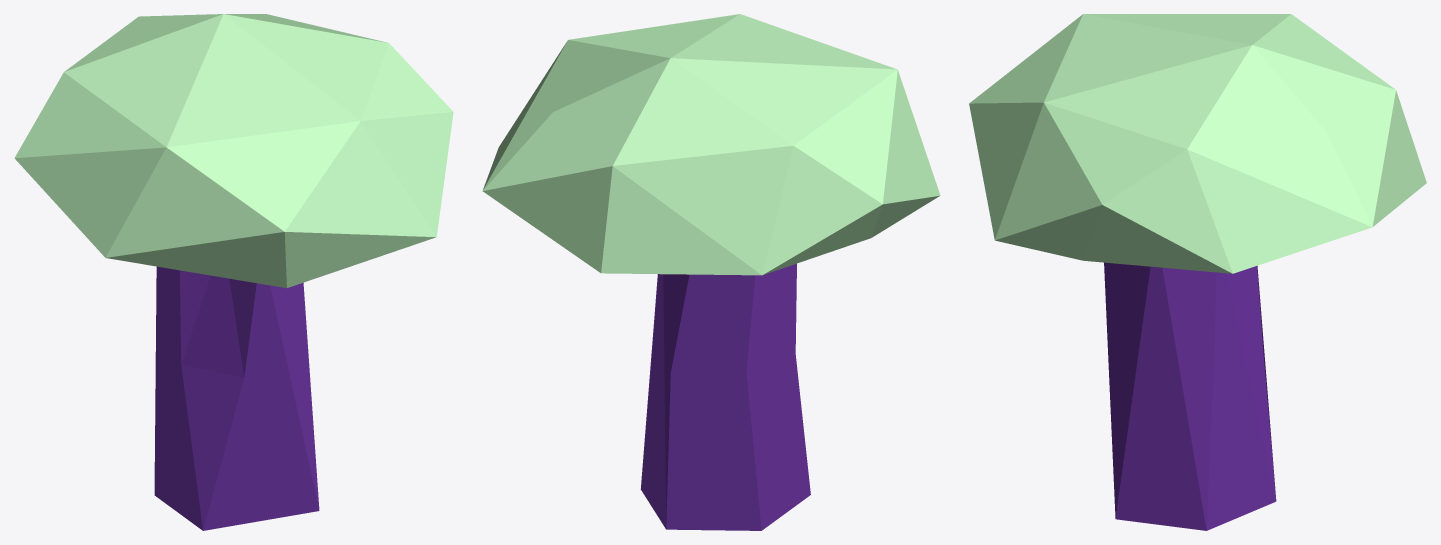
The model's file is mushroom01.fbx.
The picture shows the model from 3 angles, left to right: view 1: azimuth 30°, elevation 25°; view 2: azimuth 150°, elevation 25°; view 3: azimuth 270°, elevation 25°; orthographic projection.
Visible parts, largest first — view 1: Cylinder; view 2: Cylinder; view 3: Cylinder.
Boxes of the visible parts, x1,y1,x2,y2 form: Cylinder: (14,14,453,530); Cylinder: (482,14,940,530); Cylinder: (969,14,1426,530).
Size of the model in its own units: 0.1174 by 0.1313 by 0.1184.
